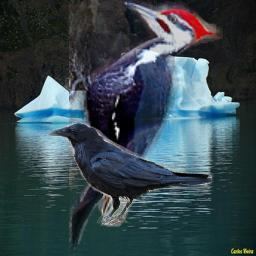Crow: (47, 122, 214, 228)
Woodpecker: (69, 0, 223, 254)
